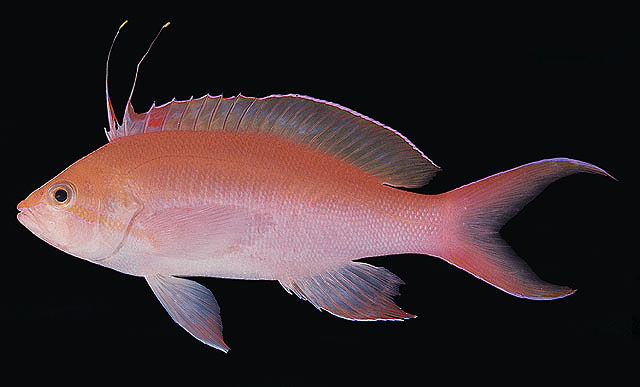fish: (16, 25, 618, 355)
